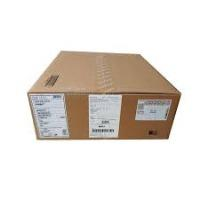undamaged: (23, 50, 183, 142)
